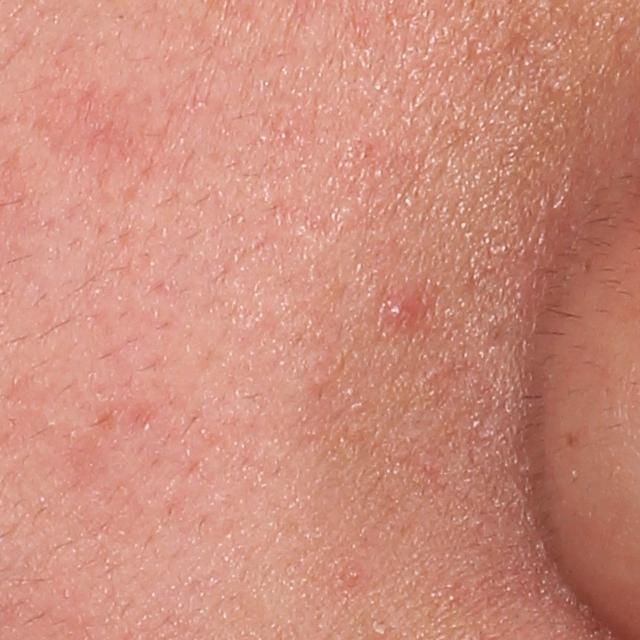nevus: (565, 429, 578, 449)
papule: (374, 282, 423, 337)
